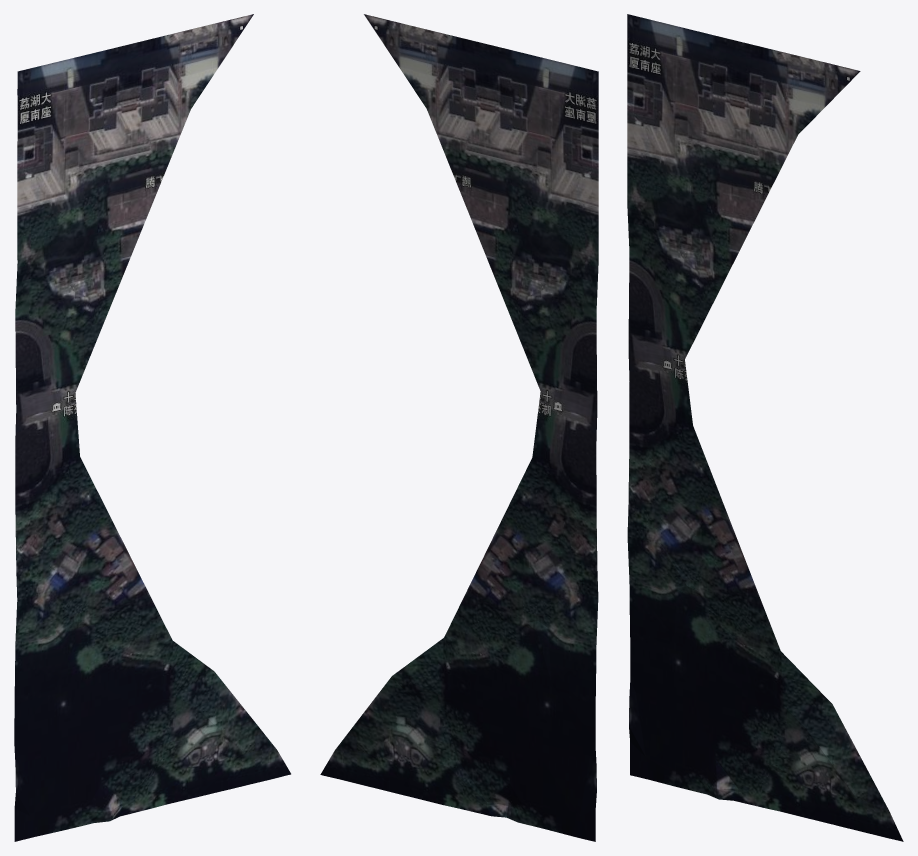
3 renders of one model, left to right at view 1: azimuth 30°, elevation 25°; view 2: azimuth 150°, elevation 25°; view 3: azimuth 330°, elevation 25°, orthographic.
Visible parts, largest first — view 1: 0_0_3_3_2_1; view 2: 0_0_3_3_2_1; view 3: 0_0_3_3_2_1.
Part boxes in pixels (x1,y1,x2,y2): 0_0_3_3_2_1: (14,14,290,841); 0_0_3_3_2_1: (320,14,598,841); 0_0_3_3_2_1: (627,14,903,841).
Size of the model in its own units: 182 by 486 by 7.4.
1 material, 1 textured.
